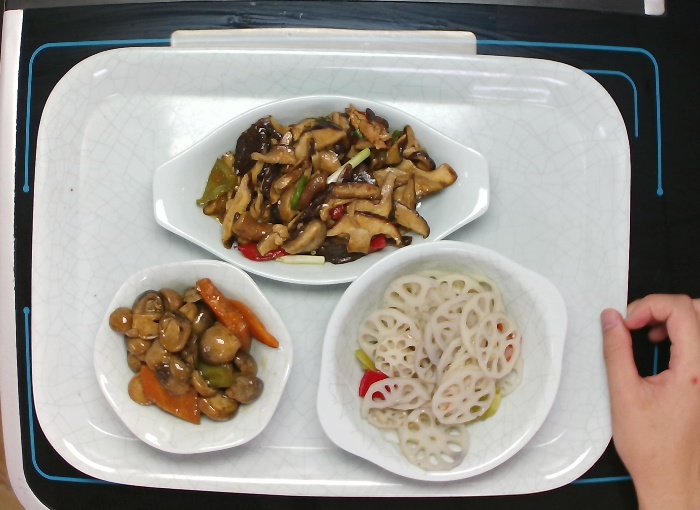JYsf-Shuang_Er_Wan: (315, 238, 567, 485)
JYsf-Yu_Pan: (150, 93, 490, 289)
WCQzf-Hua_Duo_Wan: (90, 258, 293, 457)
